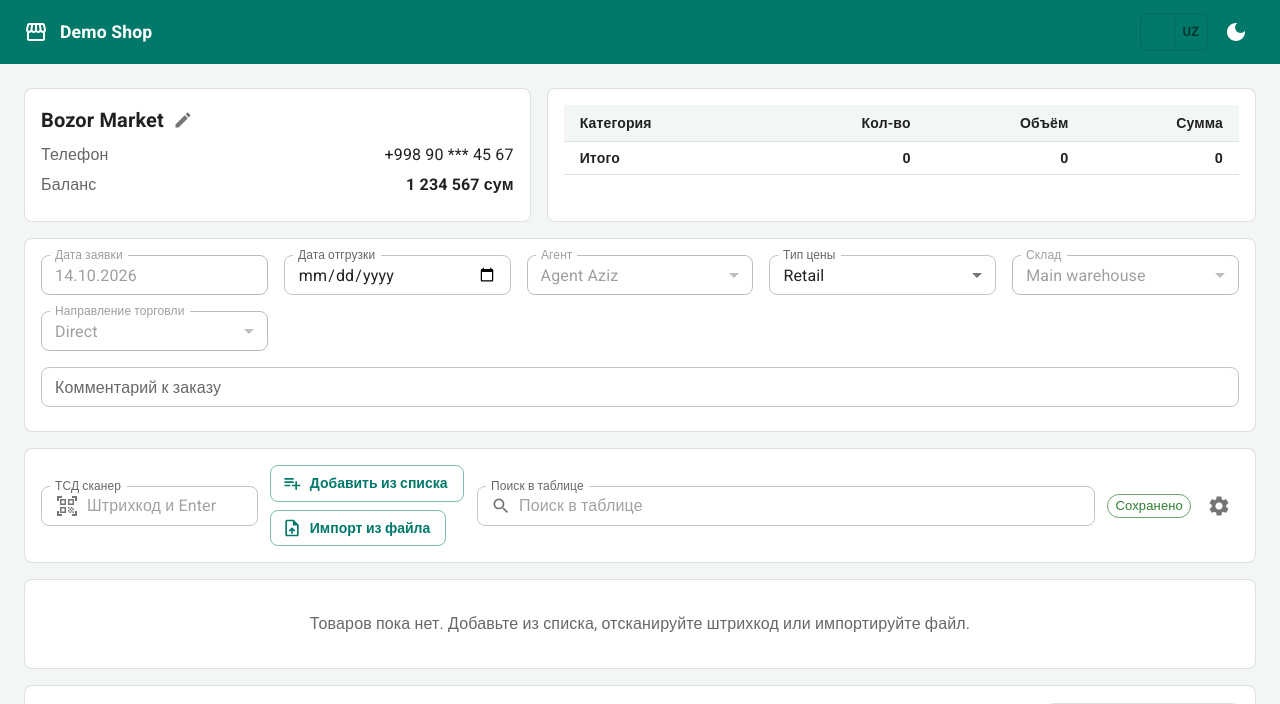
Test: order screen: scanner › shows an error toast and error beep for an unknown barcode
Type "000111" into the field with test id "scanner-input". click: (172, 506)
box: [87,486,258,526]
Then press Enter
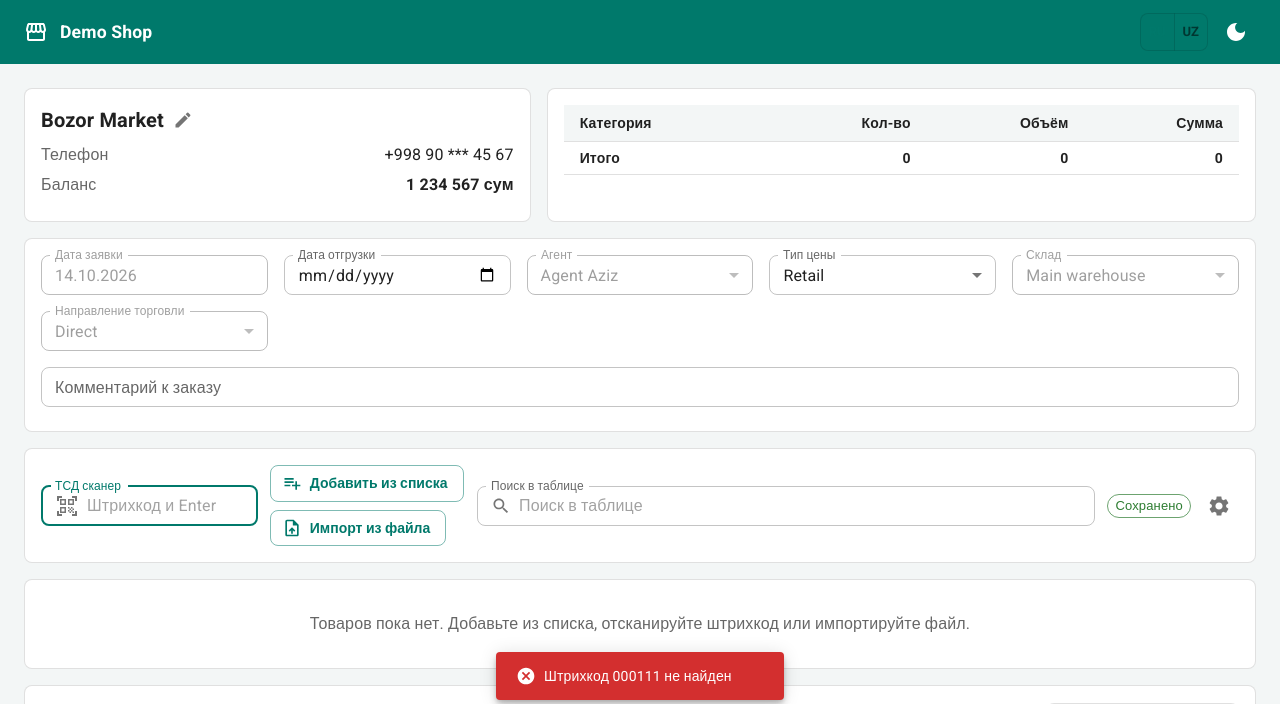
Check: the text "Штрихкод 000111 не найден" is shown, box [516,666,732,686]
